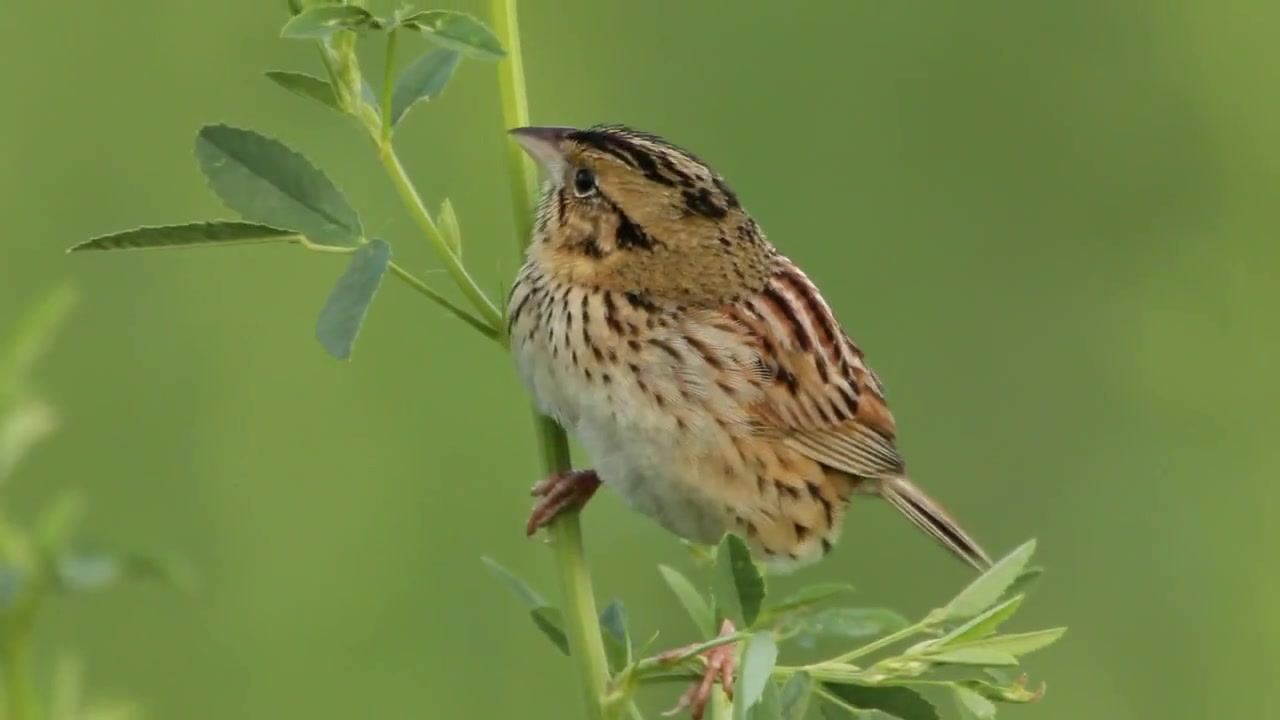bird: (498, 125, 992, 715)
